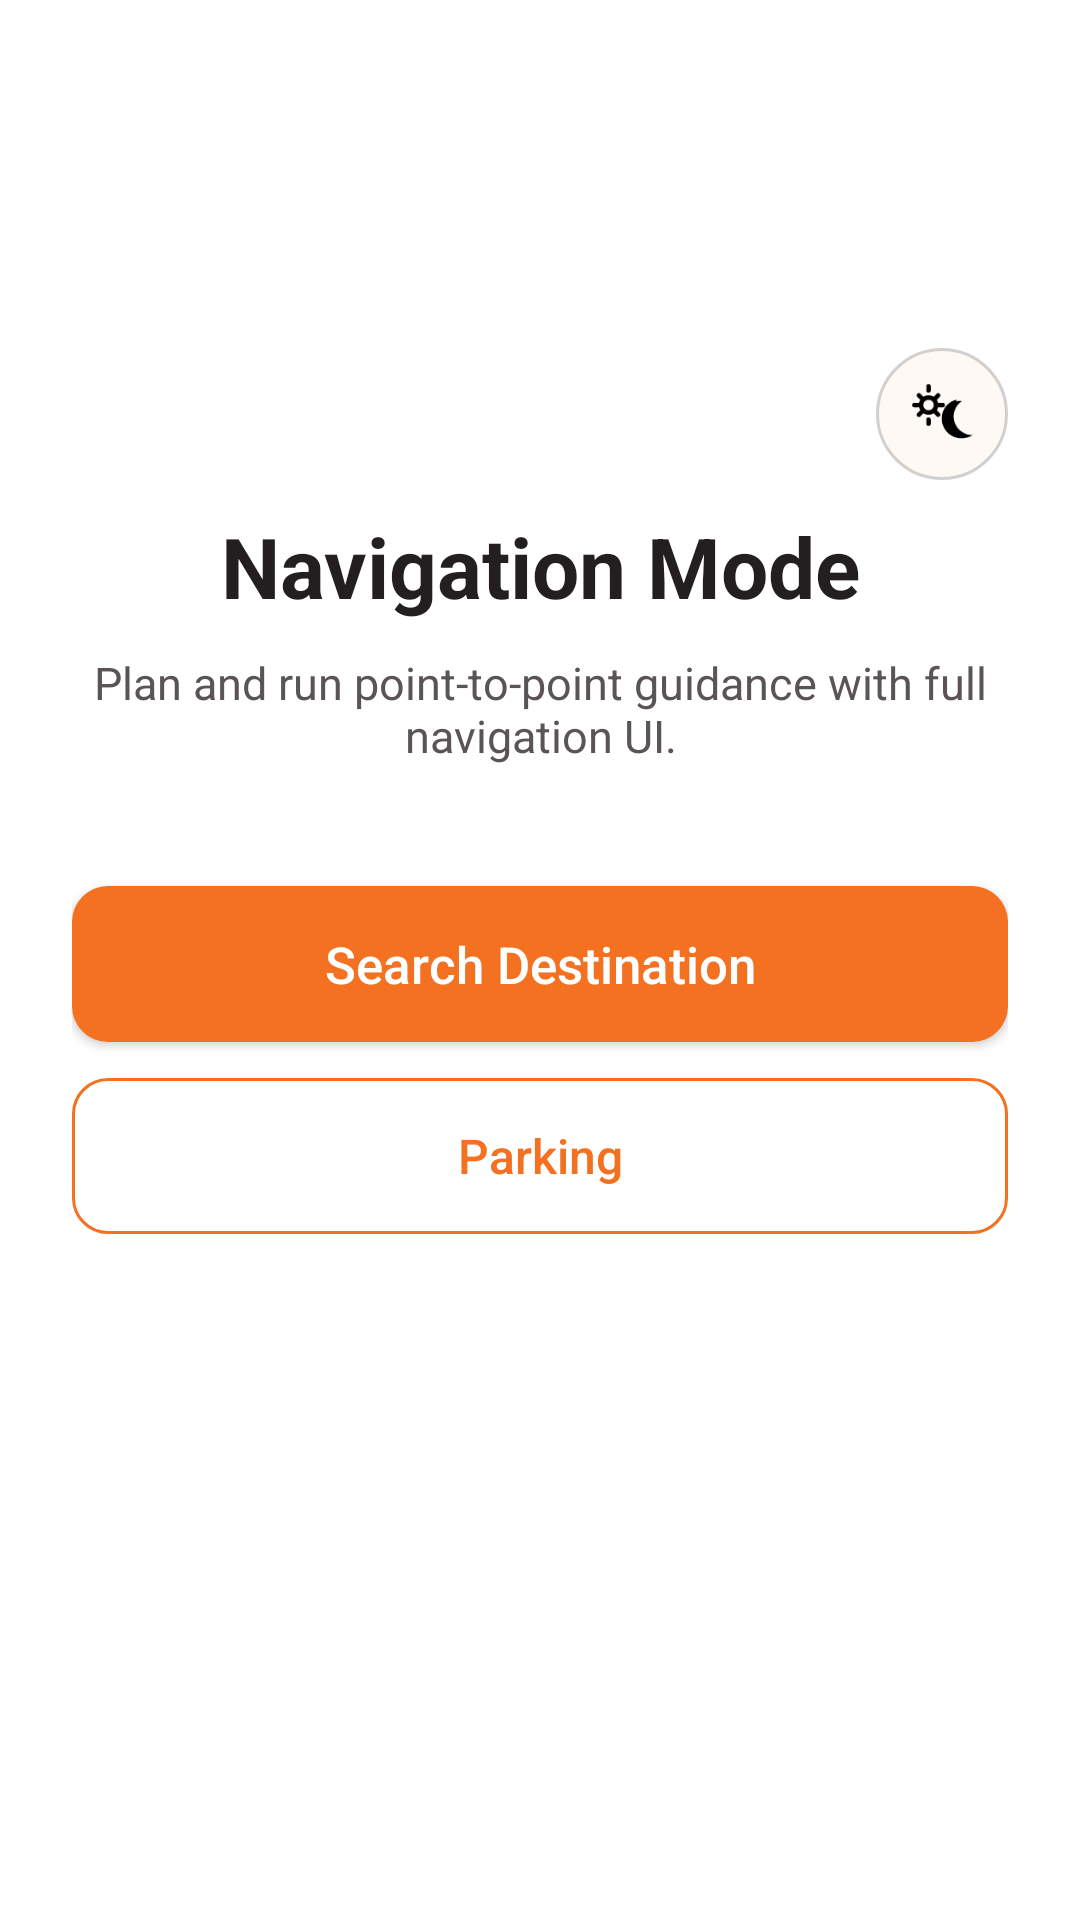

Named icons in this screenshot (1080 × 1920) and their bounding boxes, (x1, y1, x2, y2):
appearance auto: (876, 348, 1008, 480)
